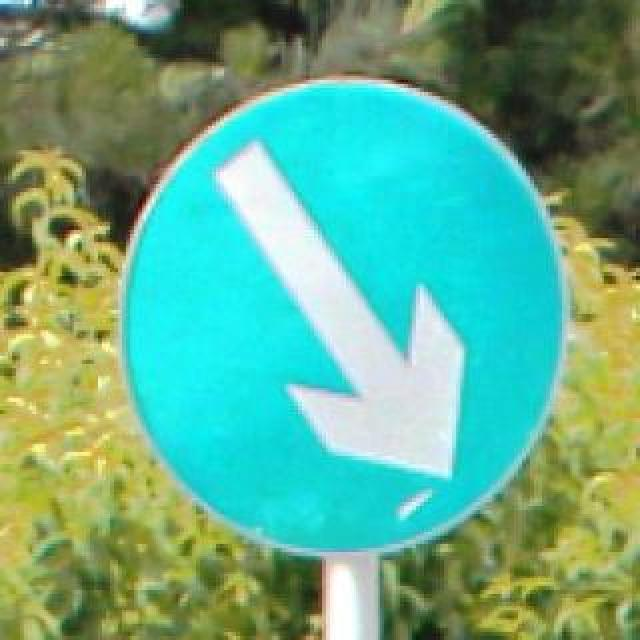keep right: (110, 68, 570, 566)
